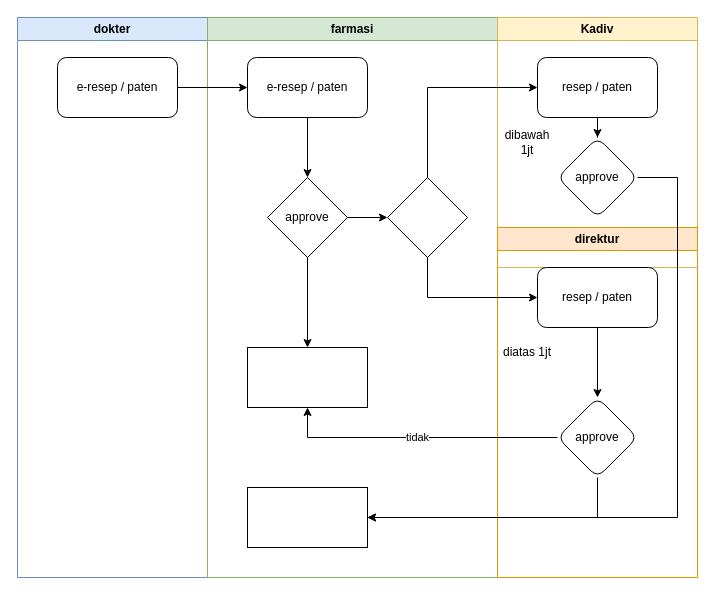
Some shapes in this 715 by 595 pixel diagram are drawn without their labels. Here are the shapes that lost their labels. From the top down, the centre of each, then its label:
the point at 427,217: <1jt
the point at 307,377: diganti
the point at 307,517: disiapkan
